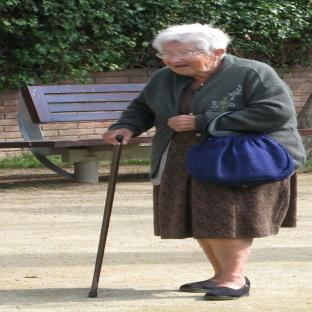Human: (103, 23, 305, 300)
